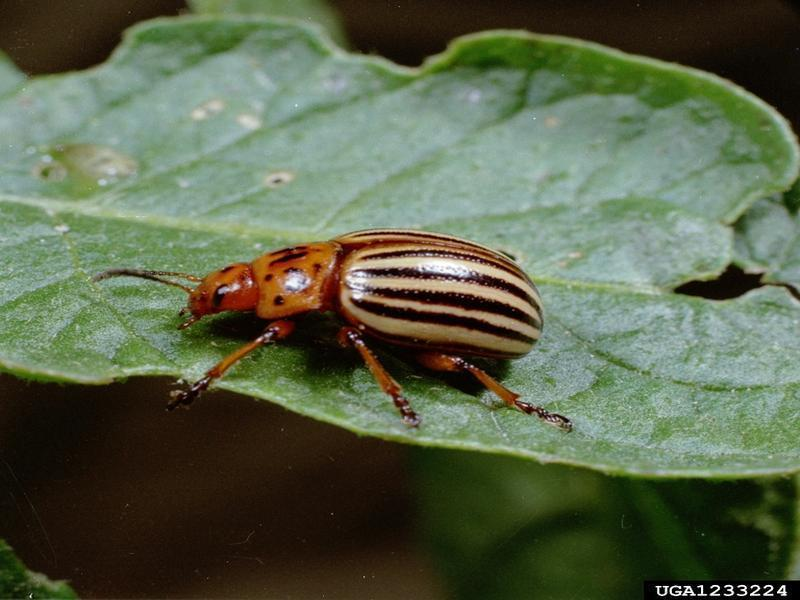hrosc: (167, 197, 554, 433)
